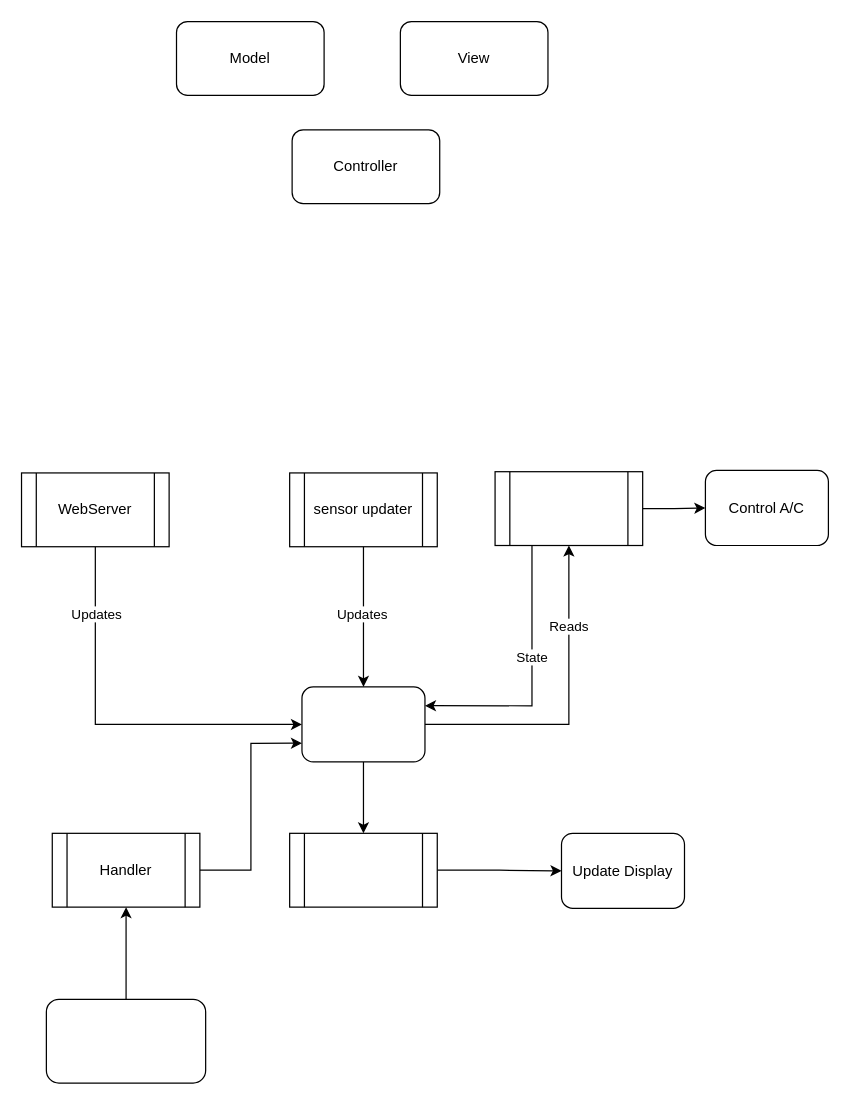
The diagram is 850 pixels wide and 1105 high, and some of its shapes have lost their labels. The shapes that lost their labels are listed below. From the top down, each one's centre as x and y in pixels, then its label:
At (x=568, y=508): "automator".
At (x=363, y=724): "Parameters Dict".
At (x=362, y=869): "Display Updater".
At (x=125, y=1040): "Up/Down Button".
